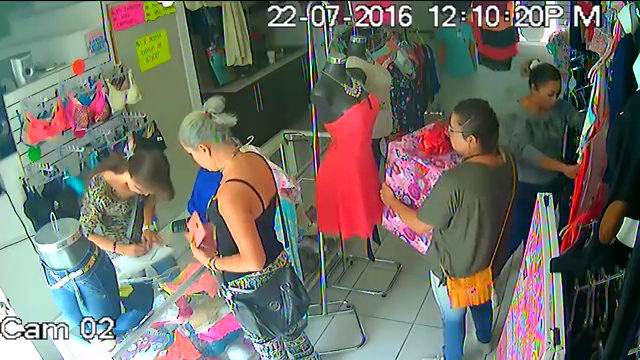face: (448, 113, 478, 157), (534, 76, 561, 111)
